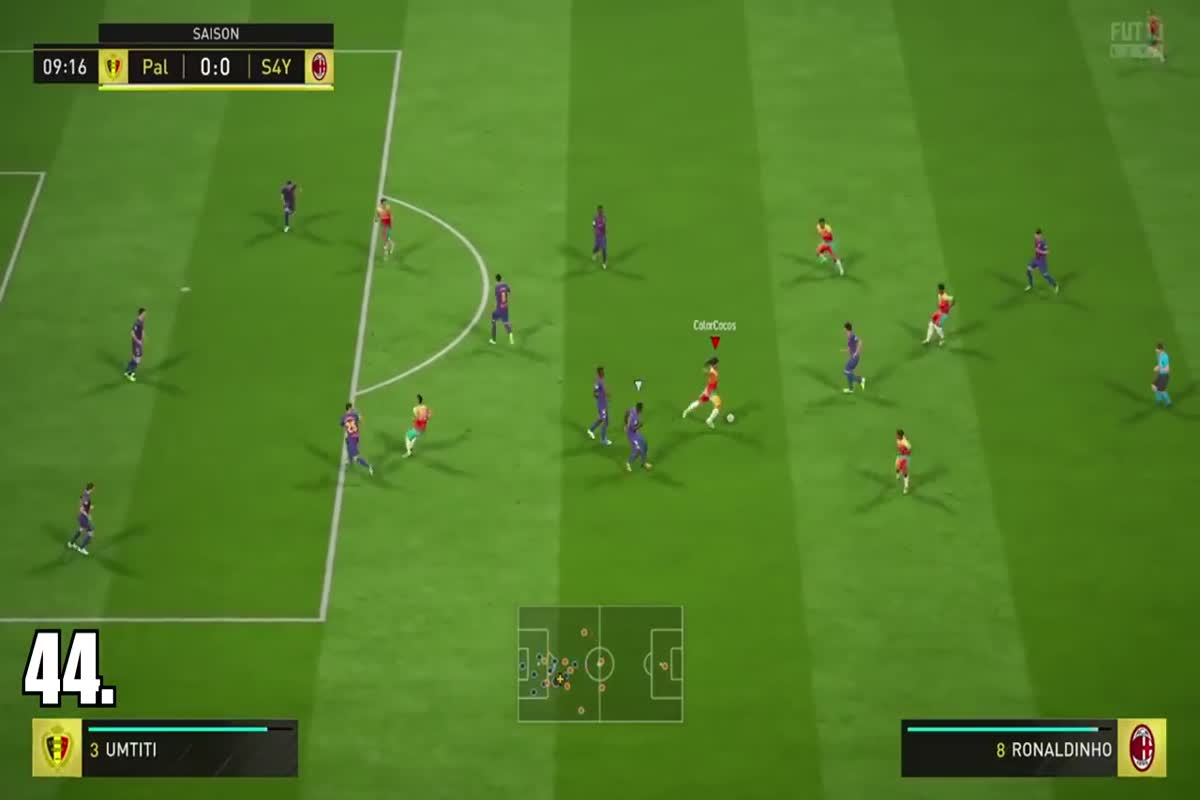ball: (724, 410, 742, 428)
